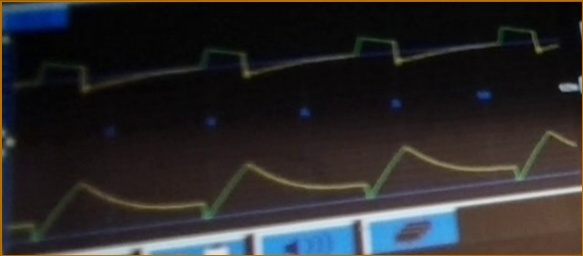Flow: (16, 26, 555, 101)
Leakage Volume: (14, 129, 574, 244)
